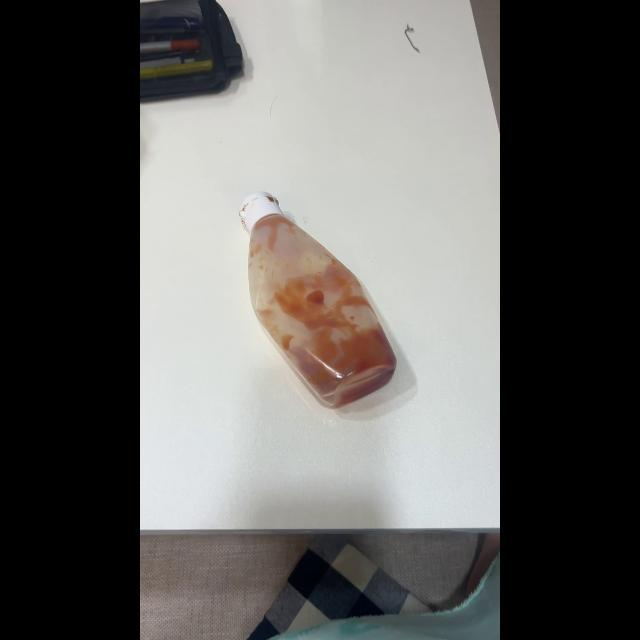dirty: (248, 197, 398, 406)
